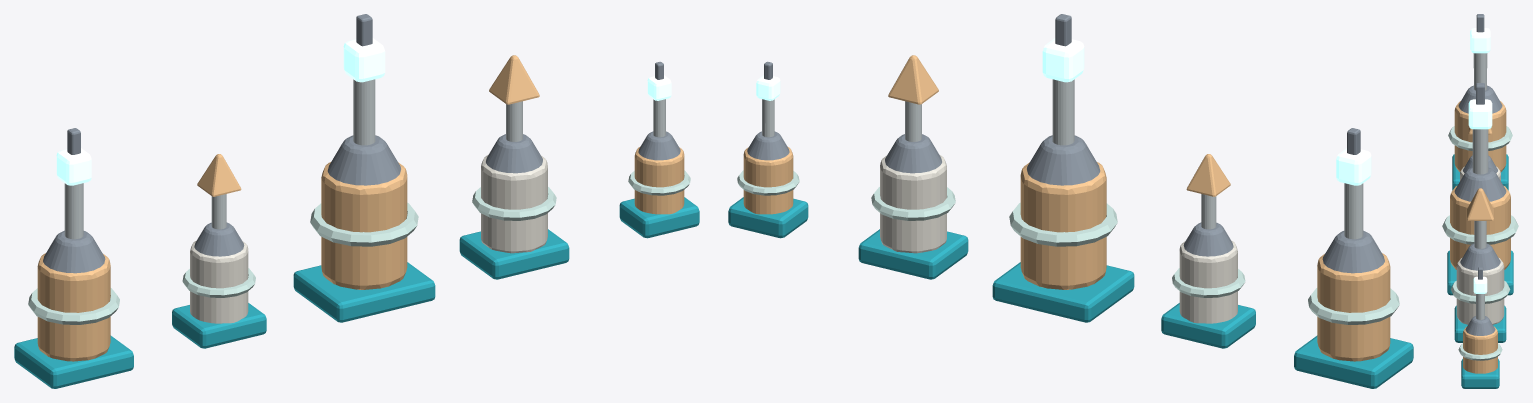
File: 12-buoy-set.glb
3 renders of one model, left to right at view 1: azimuth 30°, elevation 25°; view 2: azimuth 150°, elevation 25°; view 3: azimuth 270°, elevation 25°, orthographic. The views are drawn at different scales.
Parts seen in each view (by area): view 1: Buoy_2_Body, Buoy_0_Body, Buoy_3_Body, Buoy_2_FloatBase, Buoy_1_Body, Buoy_0_FloatBase, Buoy_3_FloatBase, Buoy_2_Shoulder, Buoy_4_Body, Buoy_1_FloatBase, Buoy_4_FloatBase, Buoy_0_Shoulder (+15 smaller); view 2: Buoy_2_Body, Buoy_0_Body, Buoy_3_Body, Buoy_2_FloatBase, Buoy_1_Body, Buoy_0_FloatBase, Buoy_3_FloatBase, Buoy_2_Shoulder, Buoy_4_Body, Buoy_1_FloatBase, Buoy_4_FloatBase, Buoy_0_Shoulder (+15 smaller); view 3: Buoy_2_Body, Buoy_3_Body, Buoy_0_Body, Buoy_4_Body, Buoy_2_Shoulder, Buoy_2_Ring, Buoy_3_Shoulder, Buoy_2_Mast, Buoy_4_FloatBase, Buoy_2_Beacon, Buoy_3_Daymark, Buoy_2_FloatBase (+15 smaller).
Boxes of the visible parts, x1,y1,x2,y2 form: Buoy_2_Body: (321, 162, 407, 289); Buoy_0_Body: (37, 253, 110, 361); Buoy_3_Body: (481, 155, 547, 253); Buoy_2_FloatBase: (293, 262, 435, 322); Buoy_1_Body: (190, 240, 248, 323); Buoy_0_FloatBase: (14, 335, 133, 388); Buoy_3_FloatBase: (459, 229, 569, 279); Buoy_2_Shoulder: (327, 135, 400, 185); Buoy_4_Body: (634, 147, 684, 214); Buoy_1_FloatBase: (172, 303, 266, 348); Buoy_4_FloatBase: (619, 197, 699, 238); Buoy_0_Shoulder: (43, 230, 105, 273); Buoy_2_Body: (1020, 162, 1106, 289); Buoy_0_Body: (1317, 253, 1390, 361); Buoy_3_Body: (880, 155, 946, 253); Buoy_2_FloatBase: (992, 262, 1134, 322); Buoy_1_Body: (1179, 240, 1237, 323); Buoy_0_FloatBase: (1294, 335, 1413, 388); Buoy_3_FloatBase: (858, 229, 968, 279); Buoy_2_Shoulder: (1027, 135, 1100, 185); Buoy_4_Body: (743, 147, 793, 214); Buoy_1_FloatBase: (1161, 303, 1255, 348); Buoy_4_FloatBase: (728, 197, 808, 238); Buoy_0_Shoulder: (1322, 230, 1384, 273); Buoy_2_Body: (1450, 186, 1510, 269); Buoy_3_Body: (1456, 257, 1504, 324); Buoy_0_Body: (1454, 101, 1506, 171); Buoy_4_Body: (1463, 326, 1497, 373); Buoy_2_Shoulder: (1454, 167, 1506, 201); Buoy_2_Ring: (1442, 215, 1518, 244); Buoy_3_Shoulder: (1460, 243, 1500, 270); Buoy_2_Mast: (1472, 129, 1488, 174); Buoy_4_FloatBase: (1461, 359, 1499, 388); Buoy_2_Beacon: (1468, 99, 1492, 129); Buoy_3_Daymark: (1467, 188, 1493, 220); Buoy_2_FloatBase: (1447, 250, 1513, 295).
Bounding box in the file's own units: 6.77 × 2.76 × 0.9794.
